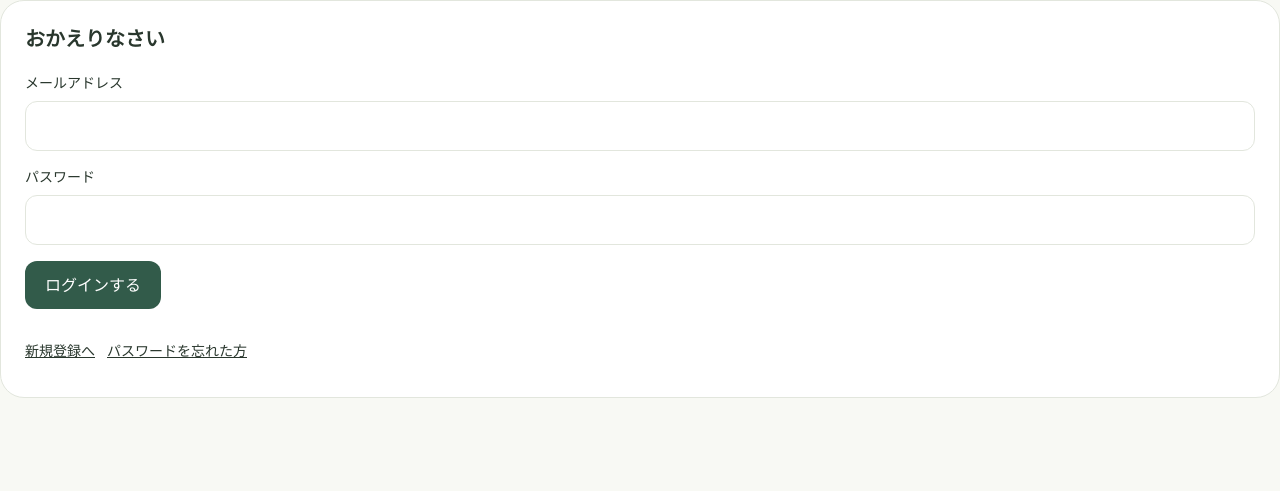
Scenario: ログインのパスワード未入力と再設定の不正メールを送信しない
This screenshot has width=1280, height=491.
Type "test@example.test" into the field labelled "メールアドレス" at (640, 126), box top-left (25, 101), bottom-right (1255, 151)
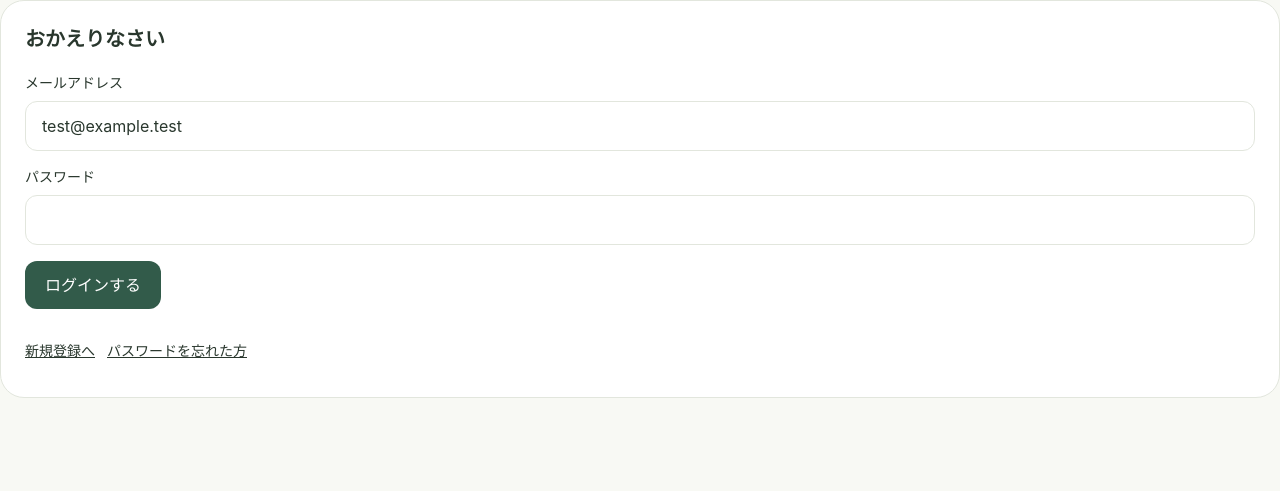
Click the button "ログインする" at (93, 285), box top-left (25, 261), bottom-right (161, 309)
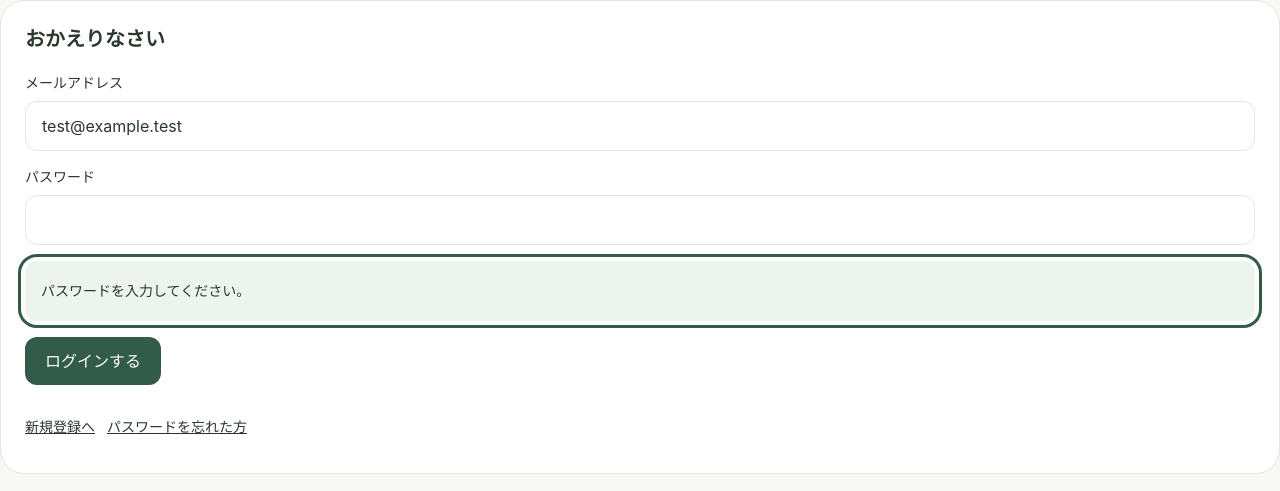
Expected: the message shows "パスワードを入力", top-left (41, 282), bottom-right (250, 299)
Click the button "パスワードを忘れた方" at (177, 427), box top-left (107, 405), bottom-right (247, 449)
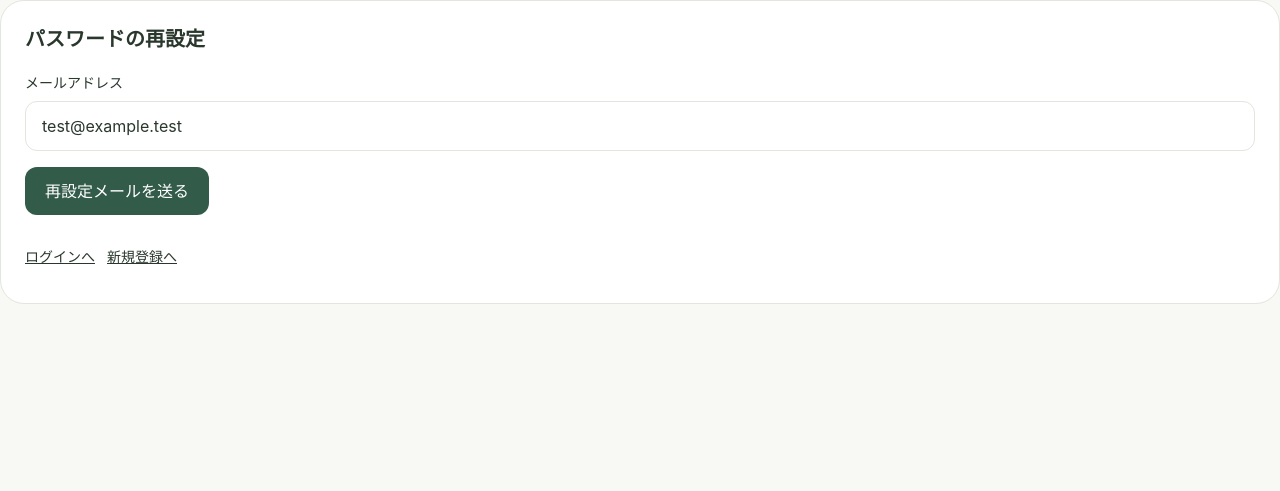
Replace the text in the field labelled "メールアドレス" with "invalid" at (640, 126), box top-left (25, 101), bottom-right (1255, 151)
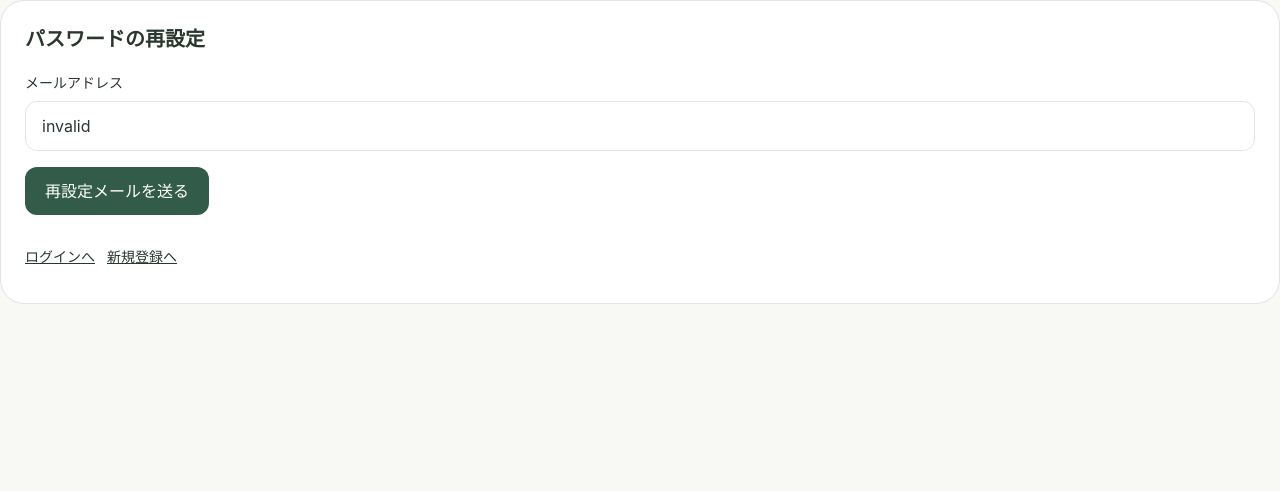
Click the button "再設定メールを送る" at (117, 191), box top-left (25, 167), bottom-right (209, 215)
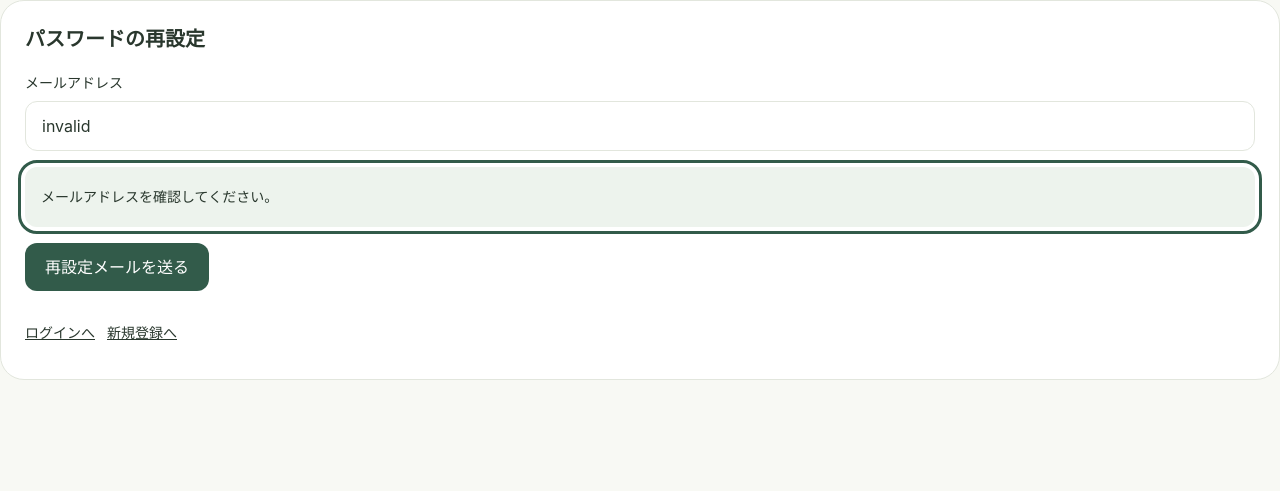
Expected: the message shows "メールアドレスを確認", top-left (41, 188), bottom-right (278, 205)
